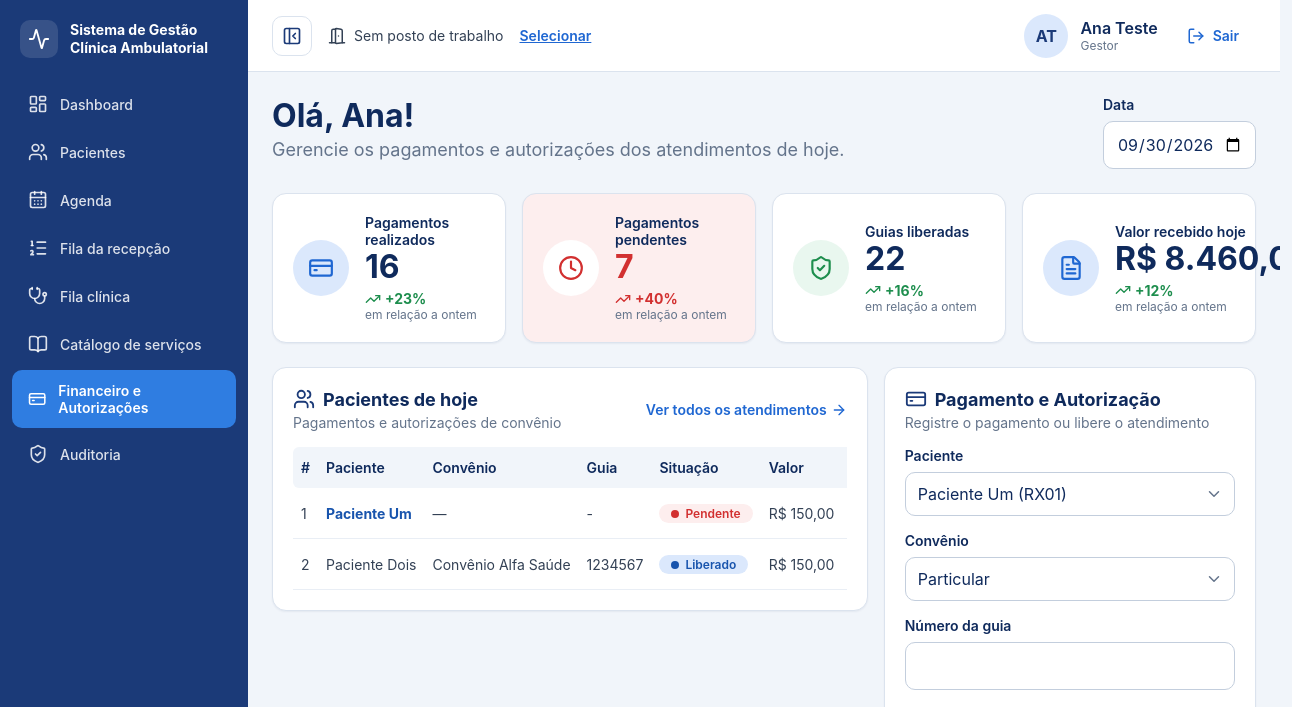
Test: FinancePage › consulta o financeiro de uma data anterior
// Inputs de data no jsdom não aceitam digitação caractere a caractere.
Step 1. Type "2026-08-15" into the date field labelled "Data" → (1180, 145), box [1116,134,1243,156]
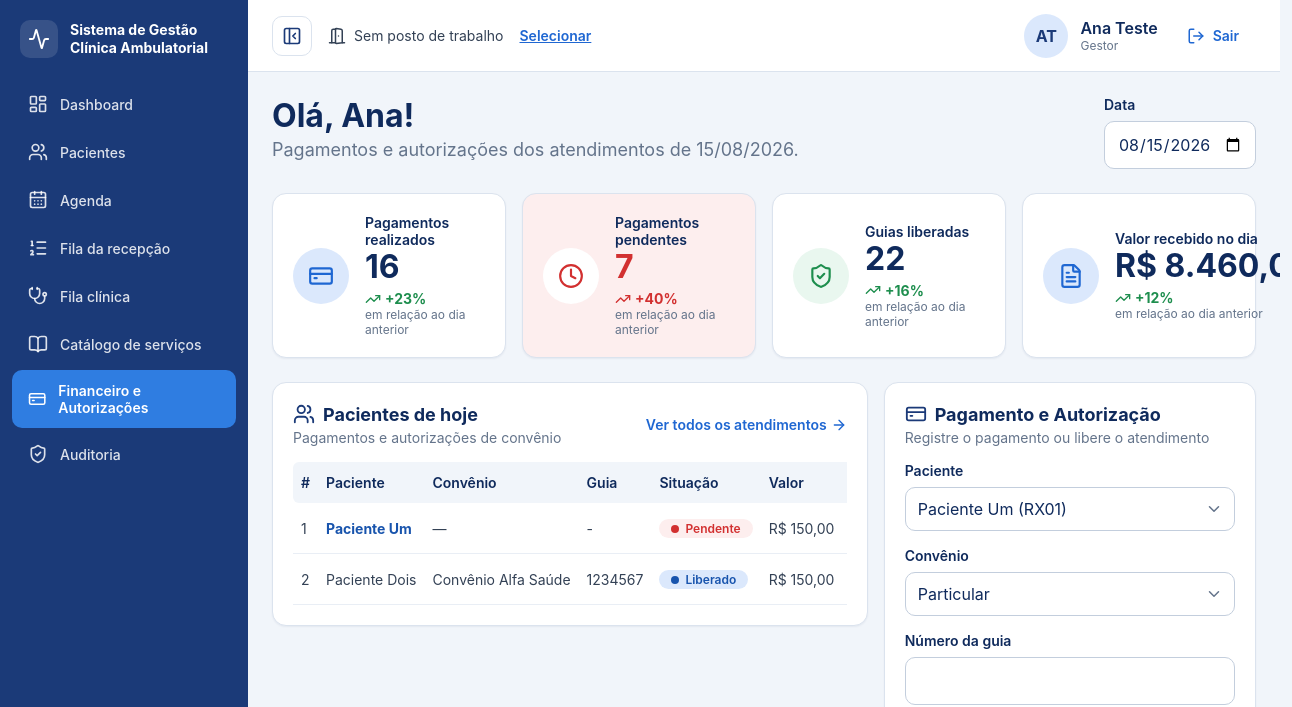
Result: the text "Pagamentos e autorizações dos atendimentos de 15/08/2026." is shown at [272,139,799,160]
